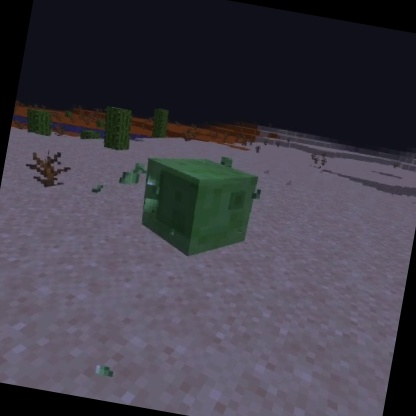slime: (127, 145, 265, 270)
